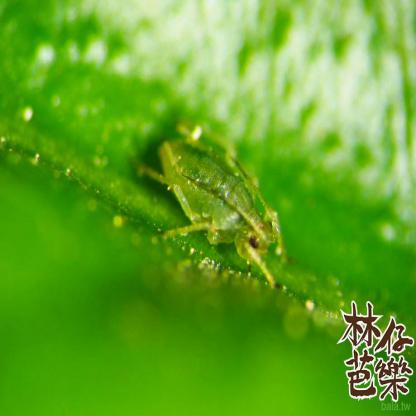aphid: (144, 108, 289, 290)
